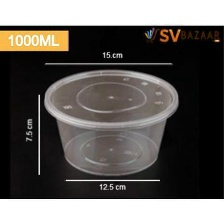plastic_box: (38, 63, 182, 180)
